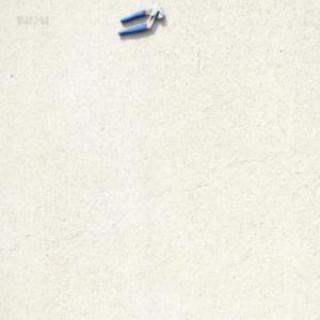Pliertrack_idkeyframe: (116, 4, 164, 37)
